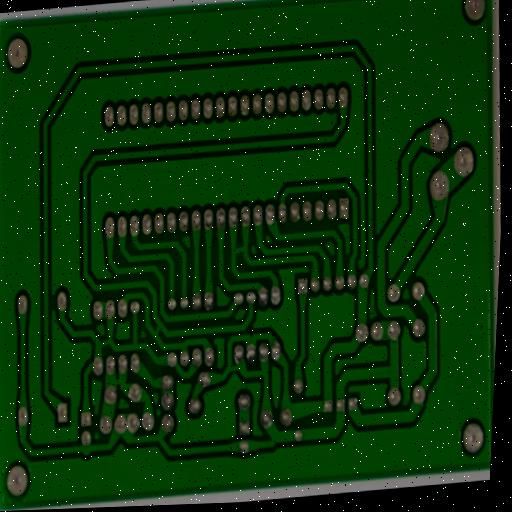short_circuit: (228, 236, 252, 262), (92, 330, 117, 354), (222, 357, 247, 381), (109, 371, 130, 394), (149, 318, 168, 342)
